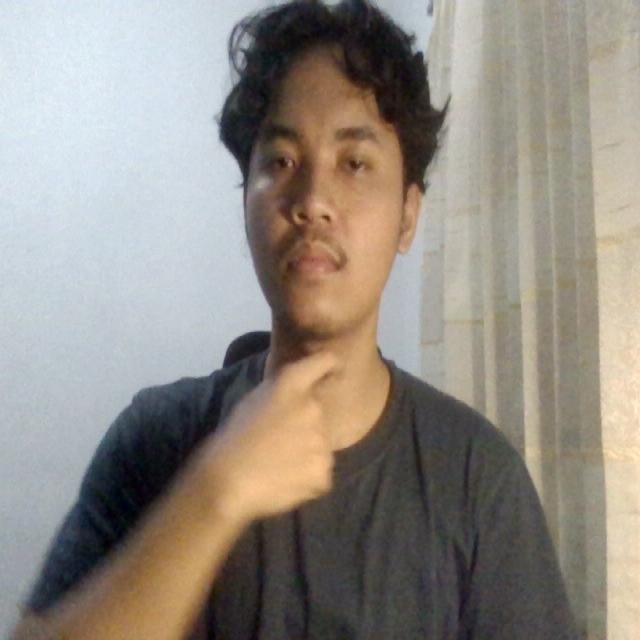N: (205, 332, 371, 539)
